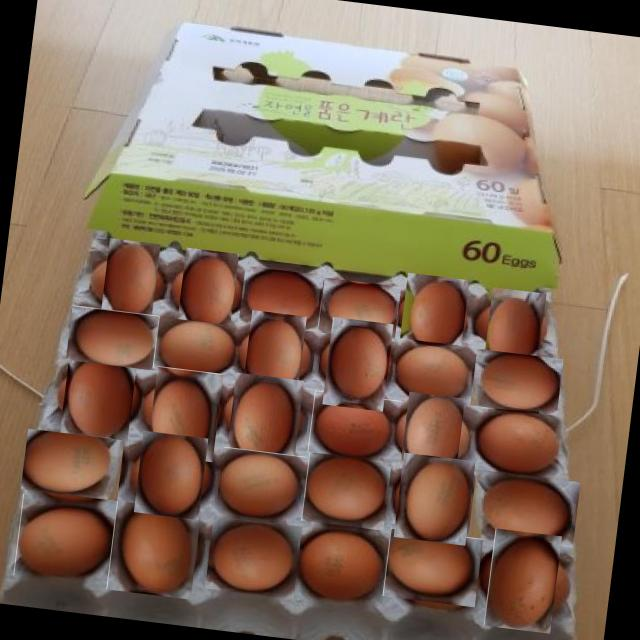eggs: (13, 494, 121, 586), (104, 501, 202, 599), (466, 468, 580, 550), (292, 522, 393, 609), (476, 535, 568, 627), (204, 515, 302, 599), (382, 527, 482, 607), (390, 454, 478, 542), (54, 352, 142, 439), (20, 428, 124, 500), (142, 372, 228, 458), (222, 376, 308, 462), (300, 451, 392, 531), (315, 322, 399, 406), (216, 446, 307, 523), (307, 390, 401, 463), (130, 434, 212, 516), (388, 337, 478, 409), (469, 348, 564, 416), (476, 408, 564, 478), (65, 305, 159, 370), (235, 316, 313, 394), (168, 253, 246, 330), (238, 264, 324, 332), (91, 244, 167, 320), (396, 275, 472, 351), (394, 396, 470, 470), (316, 276, 401, 341), (478, 292, 552, 366), (152, 316, 237, 378)
